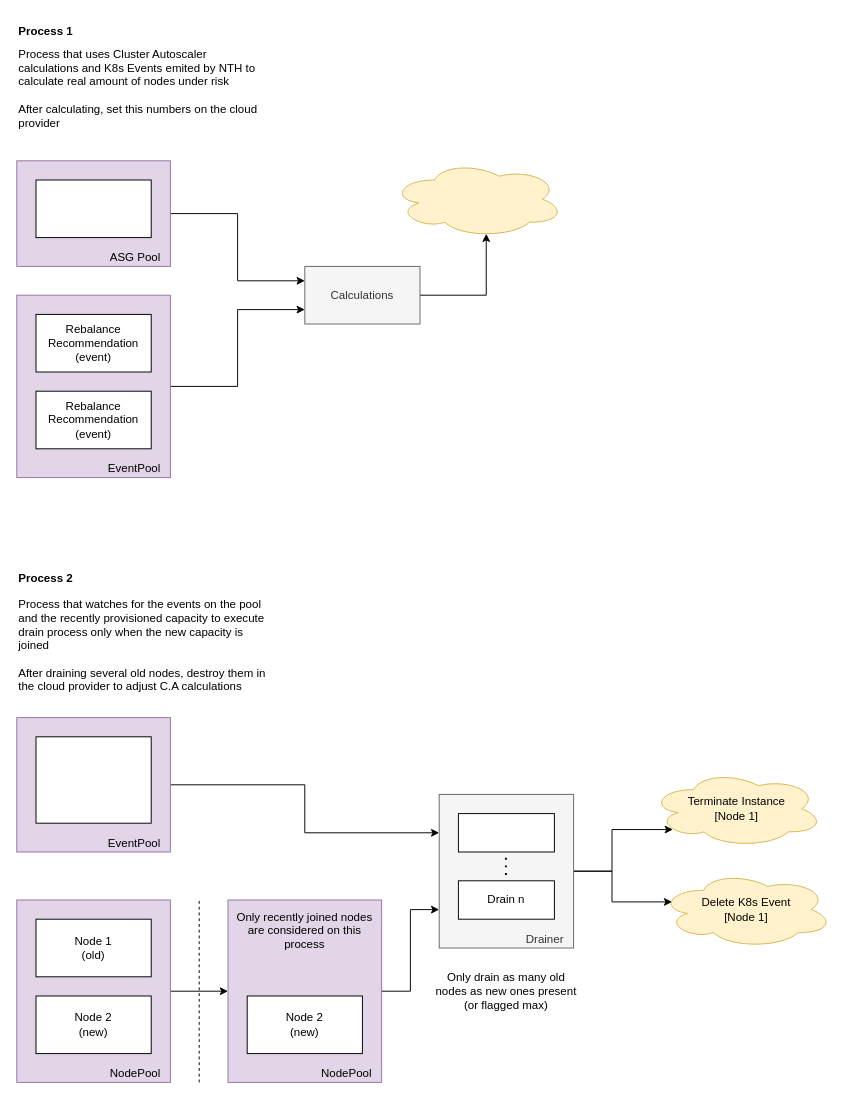
Some shapes in this 850 by 1100 pixel diagram are drawn without their labels. Each missing label, with the centre of its shape:
"ASGs (desiredCapacity)" belongs at point 477,199.
"cluster-autoscaler-status (configmap)" belongs at point 93,208.
"Drain 1" belongs at point 505,832.
"Rebalance Recommendation (event) [Node 1]" belongs at point 93,779.
